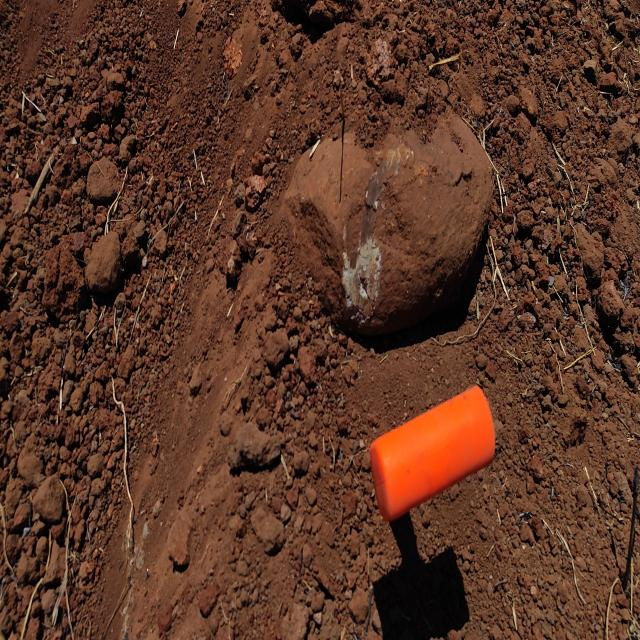Orange_hammer: (368, 383, 496, 523)
rock: (282, 73, 495, 334), (222, 409, 284, 488), (38, 232, 82, 330), (80, 230, 123, 302), (247, 488, 287, 554), (30, 467, 70, 528), (164, 504, 196, 578), (570, 218, 604, 278), (86, 150, 121, 207), (87, 155, 123, 203), (218, 26, 244, 88), (118, 124, 140, 168), (501, 93, 526, 120), (18, 542, 32, 587), (12, 369, 23, 378)
